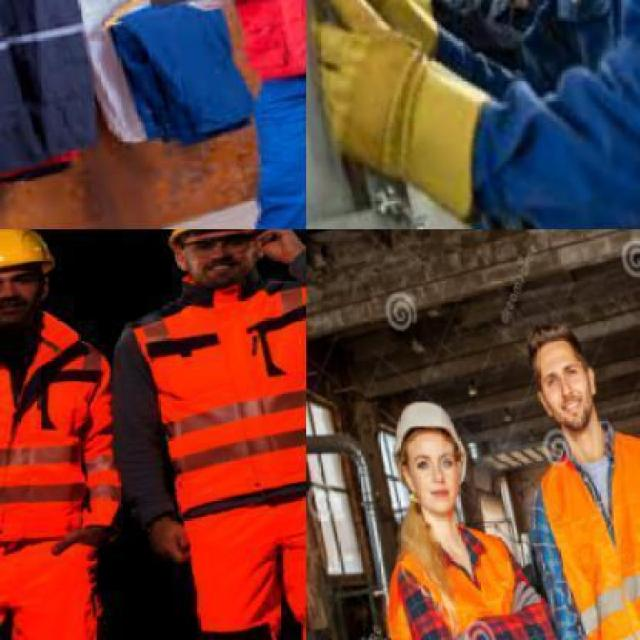Vest: (122, 268, 304, 520), (0, 290, 148, 588), (352, 497, 585, 638), (522, 422, 638, 638), (163, 0, 305, 108)
